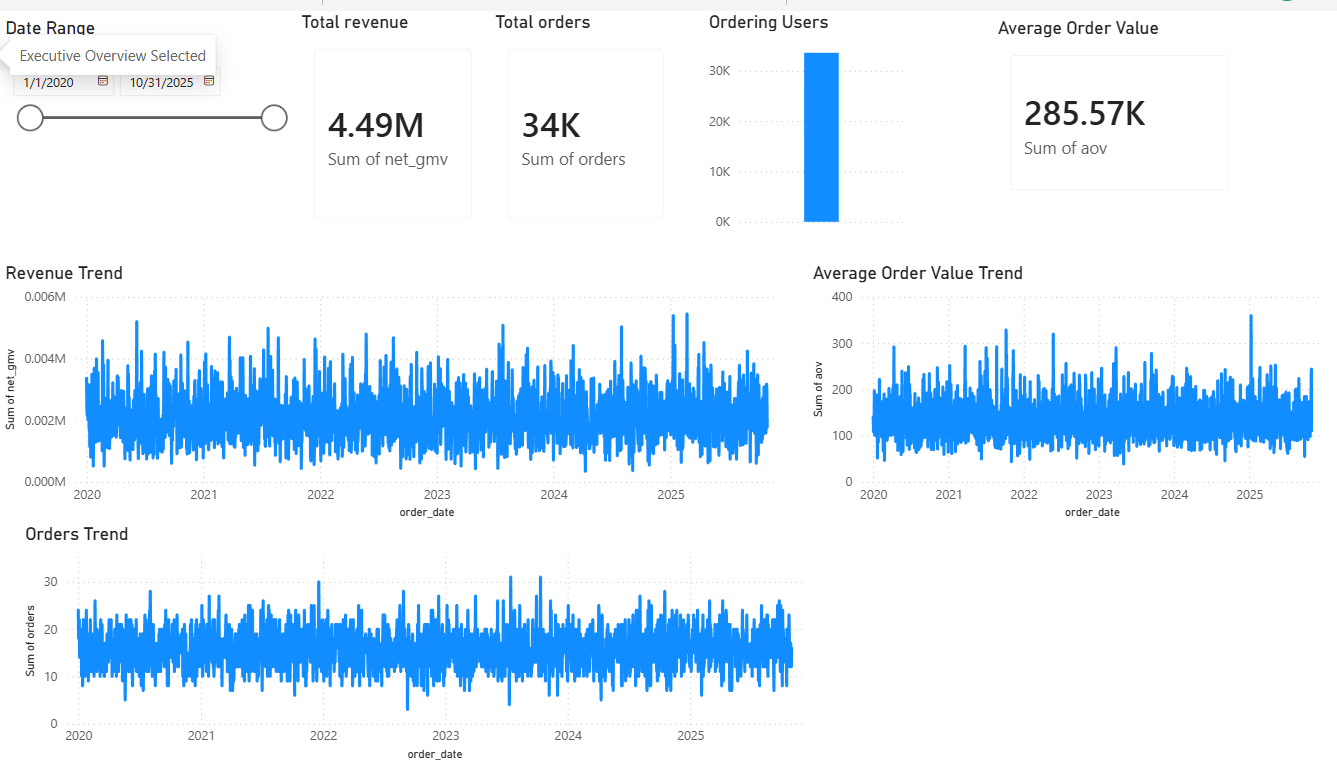

What the dashboard file says about the page in this screenshot:
{"tool":"powerbi","page":{"name":"Funnel Analysis","canvas":[1280,720],"ordinal":1},"visuals":[{"type":"funnel","title":"Session Funnel (Visited → Purchase)","fields":{"Category":["funnel_summary_daily.stage"],"Y":["Sum(funnel_summary_daily.sessions)"]},"box":[360.8,0,464.9,306.6],"z":0},{"type":"lineChart","title":"Daily Purchase Sessions Trend","fields":{"Category":["funnel_summary_daily.session_date"],"Y":["Sum(funnel_summary_daily.sessions)"]},"box":[416.4,383.6,425,308],"z":1000},{"type":"lineChart","title":"Daily Add to Cart Sessions Trend","fields":{"Category":["funnel_summary_daily.session_date"],"Y":["Sum(funnel_summary_daily.sessions)"]},"box":[837.1,383.6,443.5,328],"z":1001},{"type":"slicer","title":"Date Range","fields":{"Values":["funnel_summary_daily.session_date"]},"box":[0,0,319.4,181.1],"z":1002},{"type":"cardVisual","title":"Add to Cart → Checkout %","fields":{"Data":["funnel_summary_daily.ATC to Checkout Conversion %"]},"box":[837.1,0,211.1,166.8],"z":1003},{"type":"cardVisual","title":"Checkout → Purchase %","fields":{"Data":["funnel_summary_daily.Checkout to Purchase Conversion %"]},"box":[837.1,141.2,243.9,149.7],"z":1004},{"type":"cardVisual","title":"Visit → Purchase %","fields":{"Data":["funnel_summary_daily.Visit to Purchase Conversion %"]},"box":[1080.9,82.7,176.8,138.3],"z":1005},{"type":"clusteredColumnChart","title":"Funnel Drop-off Comparison","fields":{"Y":["funnel_summary_daily.Add to Cart Sessions","funnel_summary_daily.Checkout Sessions","funnel_summary_daily.Purchase Sessions"]},"box":[0,359.4,416.4,356.5],"z":1006}]}

Visuals, with their boxes on the page's 1280x720 design canvas (x1, y1, x2, y2). These are canvas units, not pixel positions in the 1337x780 screenshot, which may show the page scaled, cropped or inside an application window:
"Session Funnel (Visited → Purchase)" funnel: (361,0,826,307)
"Daily Purchase Sessions Trend" lineChart: (416,384,841,692)
"Daily Add to Cart Sessions Trend" lineChart: (837,384,1281,712)
"Date Range" slicer: (0,0,319,181)
"Add to Cart → Checkout %" cardVisual: (837,0,1048,167)
"Checkout → Purchase %" cardVisual: (837,141,1081,291)
"Visit → Purchase %" cardVisual: (1081,83,1258,221)
"Funnel Drop-off Comparison" clusteredColumnChart: (0,359,416,716)
